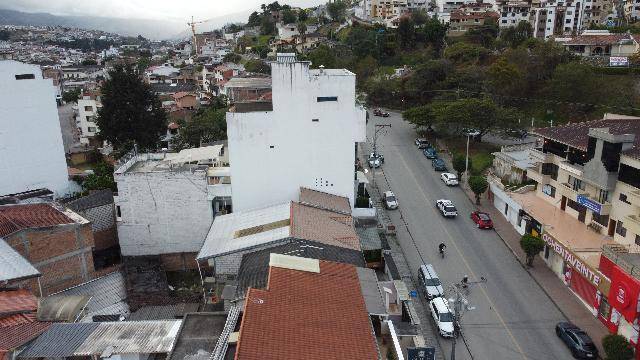Vehiculo: (556, 322, 598, 360), (429, 296, 459, 338), (418, 264, 444, 300), (471, 212, 493, 229), (437, 199, 457, 217), (382, 191, 398, 209), (440, 172, 458, 186), (506, 128, 526, 138), (460, 128, 480, 138), (431, 159, 445, 171), (414, 138, 430, 148), (373, 109, 389, 117), (424, 148, 436, 158), (368, 158, 379, 168)
